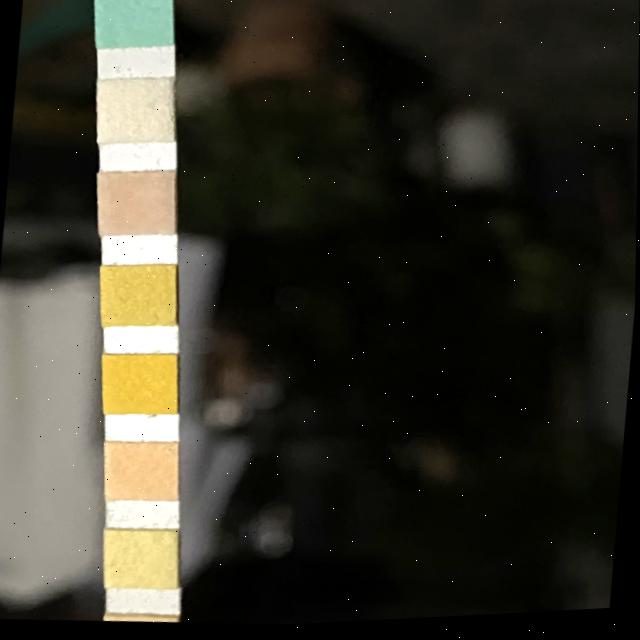Bilirubin: (99, 78, 172, 144)
Blood: (105, 353, 176, 416)
Glucose: (96, 0, 172, 47)
Ketone: (99, 171, 175, 235)
Protein: (108, 530, 175, 589)
SpGravity: (102, 264, 178, 328)
Urobilinogen: (110, 614, 175, 627)
pH: (108, 443, 177, 502)
